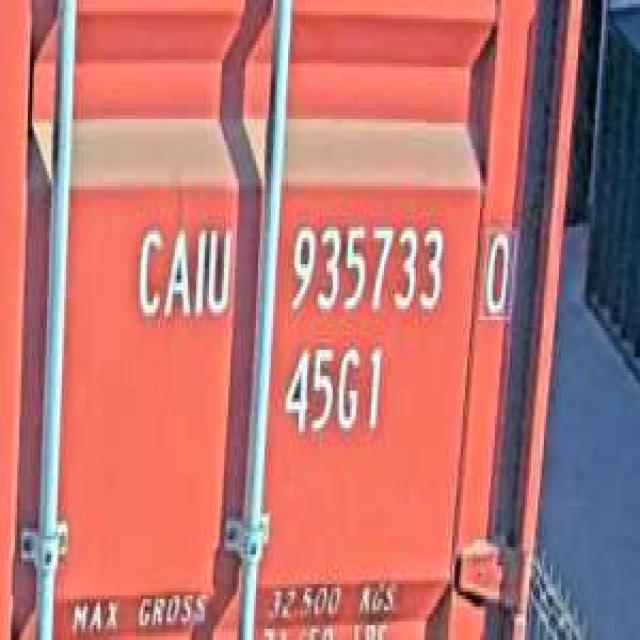dv: (478, 220, 516, 324)
owner: (130, 216, 235, 331)
serial: (282, 208, 448, 328)
size: (277, 335, 388, 446)
